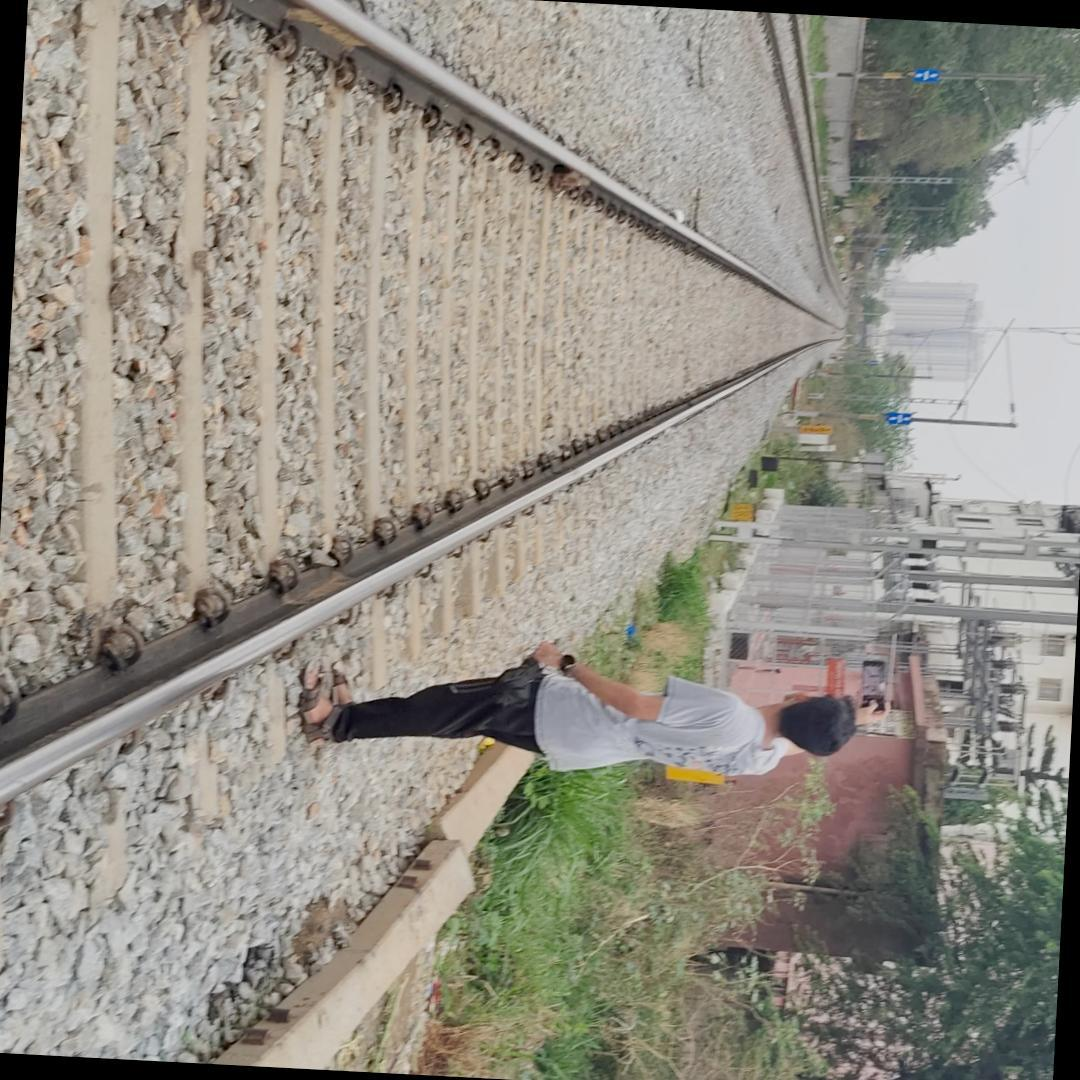standing: (262, 611, 897, 838)
